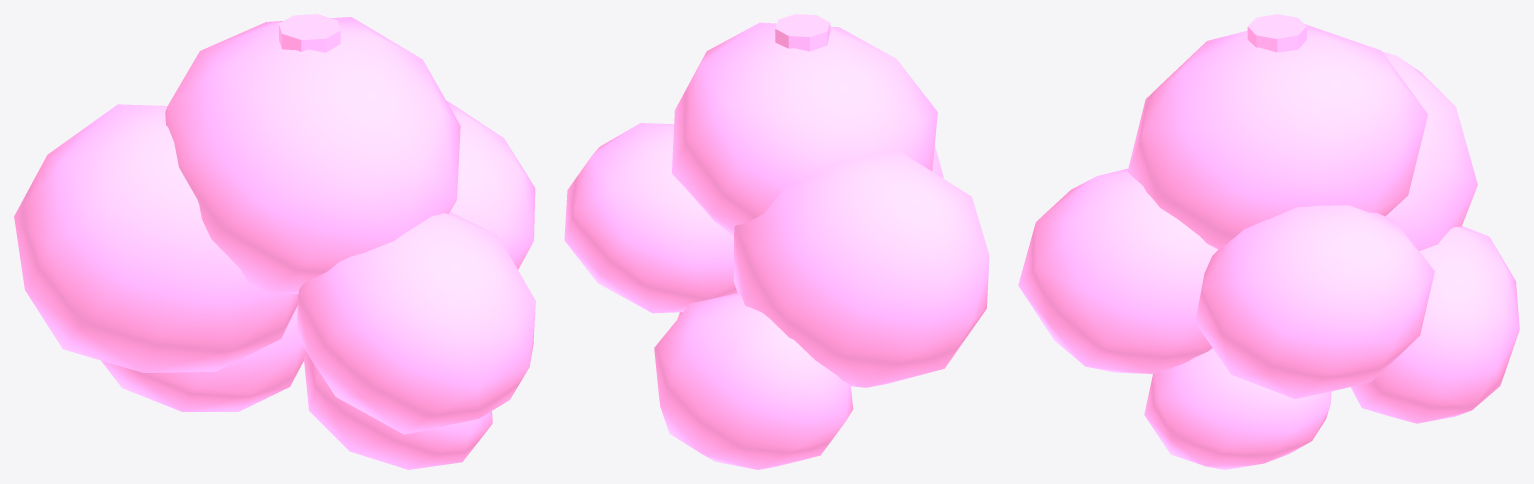
Rendered from SporePodCluster_01.fbx.
The picture shows the model from 3 angles, left to right: view 1: azimuth 30°, elevation 25°; view 2: azimuth 150°, elevation 25°; view 3: azimuth 270°, elevation 25°; orthographic projection. The views are drawn at different scales.
Visible parts, largest first — view 1: SporePodCluster_01; view 2: SporePodCluster_01; view 3: SporePodCluster_01.
Part boxes in pixels (x1,y1,x2,y2): SporePodCluster_01: (14, 14, 535, 469); SporePodCluster_01: (564, 14, 989, 469); SporePodCluster_01: (1018, 14, 1519, 469).
Size of the model in its own units: 67.54 by 59.84 by 67.78.
